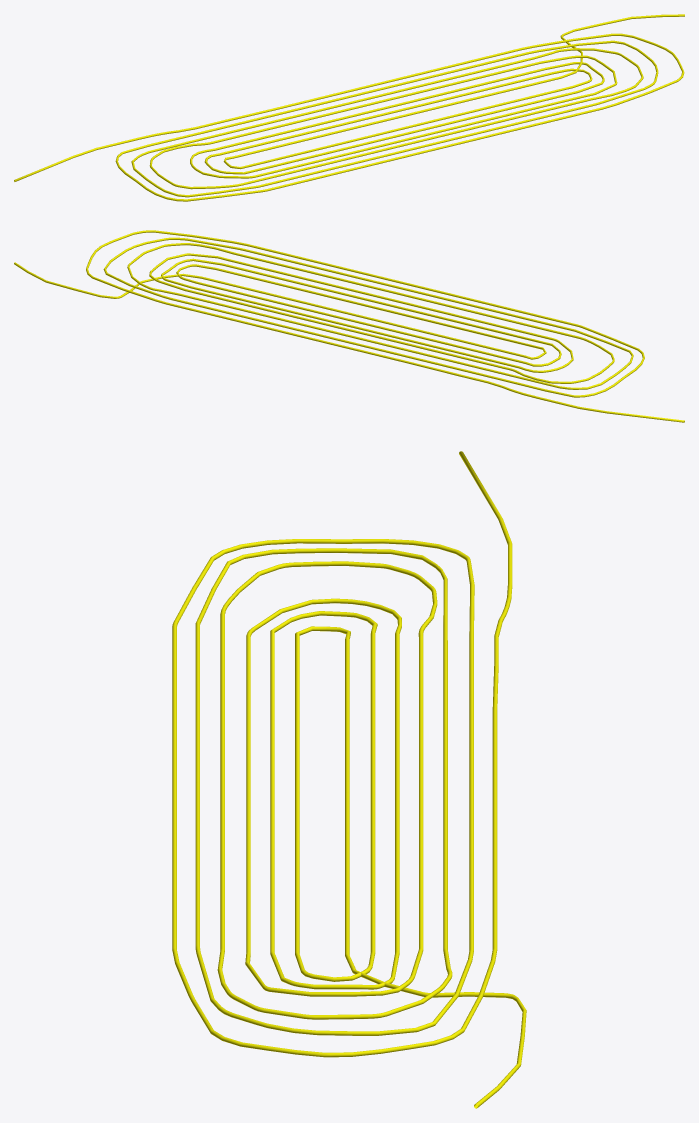
The model's file is kabel melingkar di closure set.fbx.
3 renders of one model, top to bottom at view 1: azimuth 30°, elevation 25°; view 2: azimuth 150°, elevation 25°; view 3: azimuth 270°, elevation 25°, orthographic. The views are drawn at different scales.
Parts seen in each view (by area): view 1: kabel melingkar; view 2: kabel melingkar; view 3: kabel melingkar.
Boxes of the visible parts, bbox=[...] form: kabel melingkar: bbox=[14, 14, 684, 201]; kabel melingkar: bbox=[14, 230, 684, 422]; kabel melingkar: bbox=[172, 451, 526, 1108].
Bounding box in the file's own units: 41.18 × 0.2192 × 9.48.
